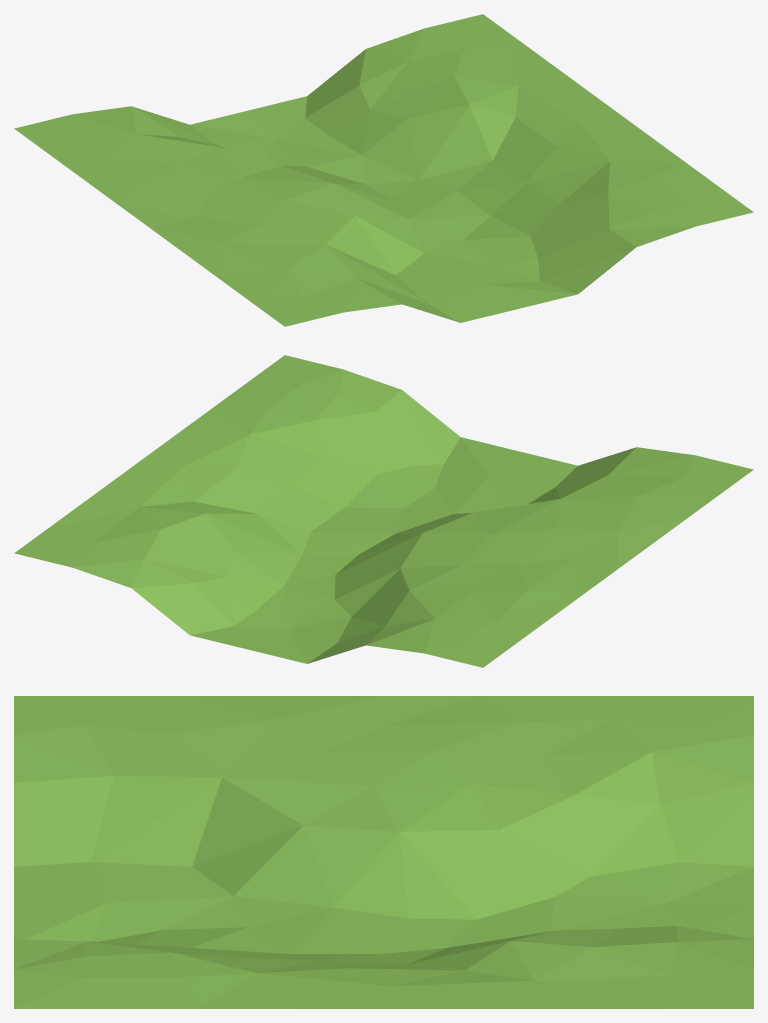
File: MT_River_S_a_03.fbx
3 renders of one model, top to bottom at view 1: azimuth 30°, elevation 25°; view 2: azimuth 150°, elevation 25°; view 3: azimuth 270°, elevation 25°, orthographic. The views are drawn at different scales.
Parts seen in each view (by area): view 1: MT_River_S_a_03; view 2: MT_River_S_a_03; view 3: MT_River_S_a_03.
Part boxes in pixels (x1,y1,x2,y2): MT_River_S_a_03: (14,14,753,326); MT_River_S_a_03: (14,355,753,667); MT_River_S_a_03: (14,696,753,1008).
Size of the model in its own units: 2500 by 232 by 2500.
